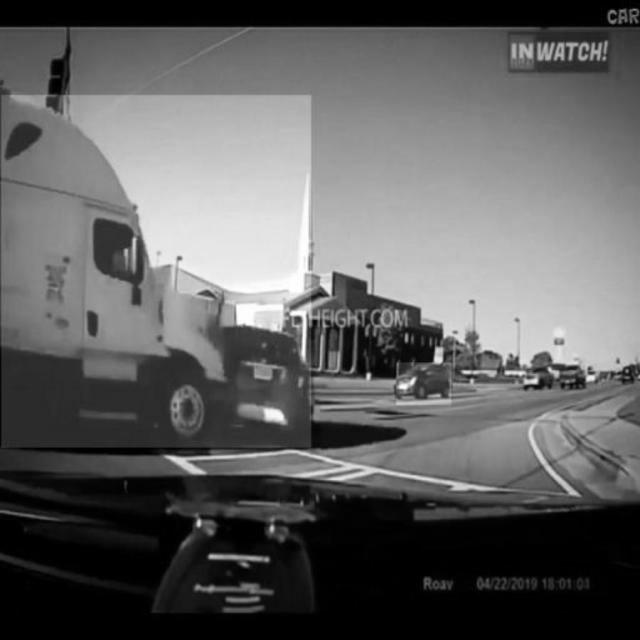accident: (2, 94, 312, 448)
vehicle: (397, 363, 452, 405)
